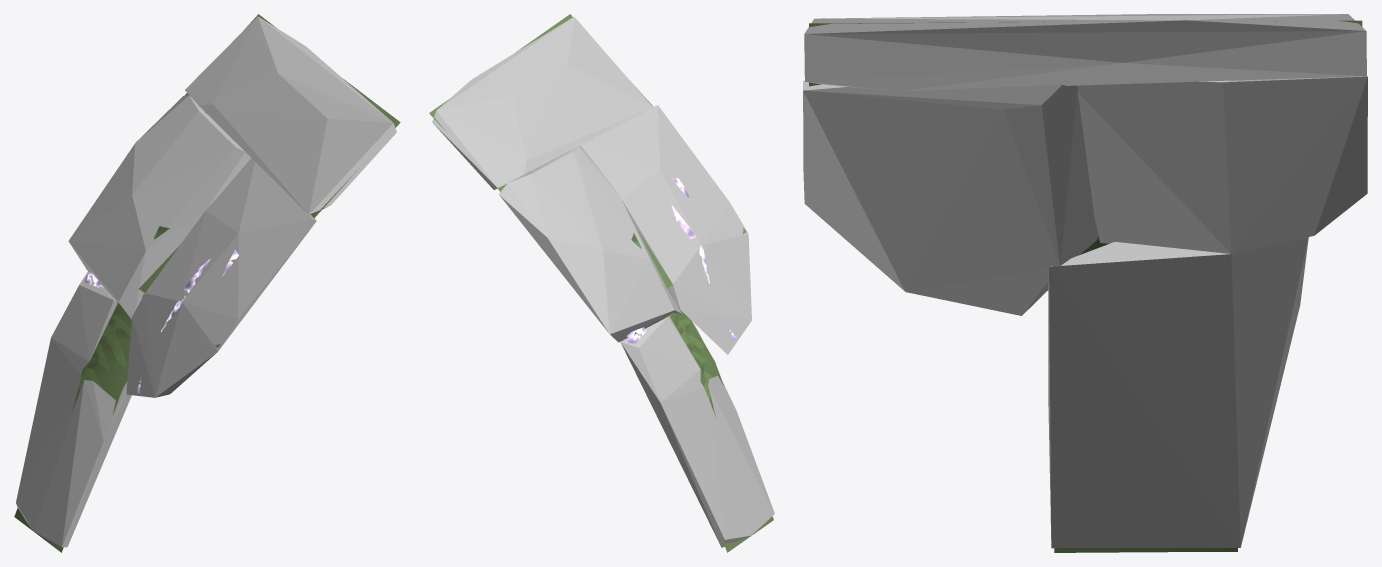
File: SM_Env_Vines_Preset_Roof_Convex_04.fbx
The picture shows the model from 3 angles, left to right: view 1: azimuth 30°, elevation 25°; view 2: azimuth 150°, elevation 25°; view 3: azimuth 270°, elevation 25°; orthographic projection. The views are drawn at different scales.
Parts seen in each view (by area): view 1: SM_Env_Vines_Preset_Roof_Convex_04_ConvexHulls, SM_Env_Vines_Preset_Roof_Convex_04; view 2: SM_Env_Vines_Preset_Roof_Convex_04_ConvexHulls, SM_Env_Vines_Preset_Roof_Convex_04; view 3: SM_Env_Vines_Preset_Roof_Convex_04_ConvexHulls, SM_Env_Vines_Preset_Roof_Convex_04.
Boxes of the visible parts, <box> form: SM_Env_Vines_Preset_Roof_Convex_04_ConvexHulls: <box>16,16,396,547</box>; SM_Env_Vines_Preset_Roof_Convex_04: <box>14,14,400,552</box>; SM_Env_Vines_Preset_Roof_Convex_04_ConvexHulls: <box>432,16,774,547</box>; SM_Env_Vines_Preset_Roof_Convex_04: <box>429,14,773,552</box>; SM_Env_Vines_Preset_Roof_Convex_04_ConvexHulls: <box>803,14,1367,548</box>; SM_Env_Vines_Preset_Roof_Convex_04: <box>809,20,1362,552</box>.
Size of the model in its own units: 174 by 158 by 245.
3 materials, 2 textured.
